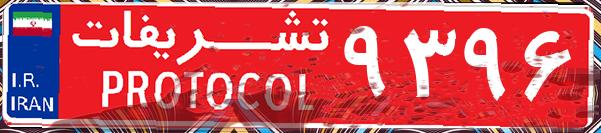3: (400, 20, 460, 115)
6: (520, 20, 580, 115)
9: (340, 20, 400, 115), (460, 20, 520, 115)
تشریفات: (60, 8, 340, 125)
